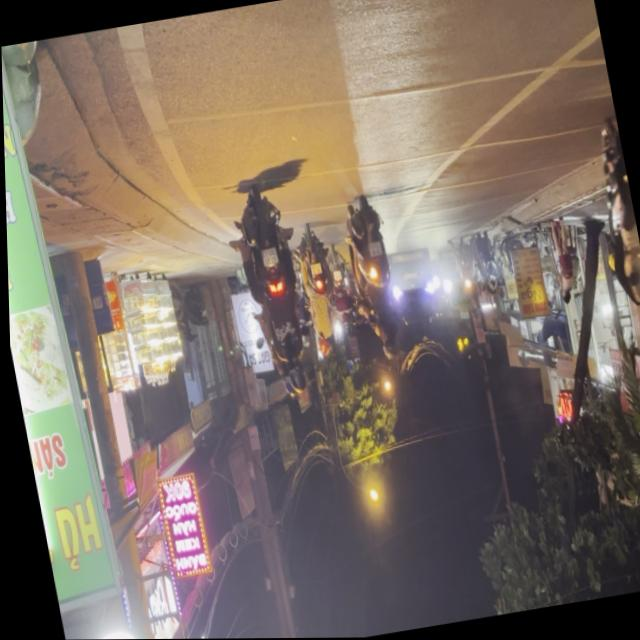helmet: (283, 360, 307, 396)
licenseplate: (224, 186, 319, 404), (582, 99, 640, 359)
nohelmet: (259, 248, 278, 269)
